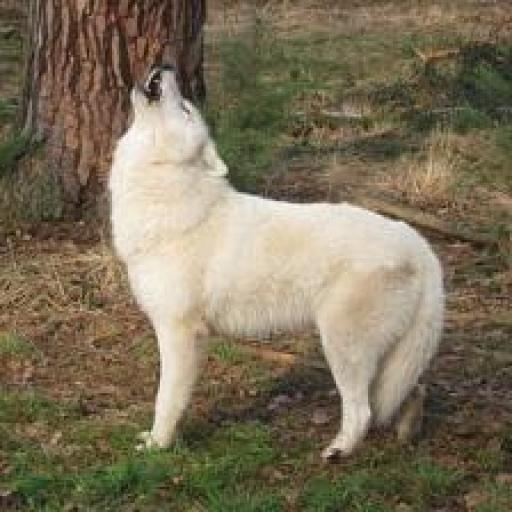wolf: (96, 59, 478, 486)
